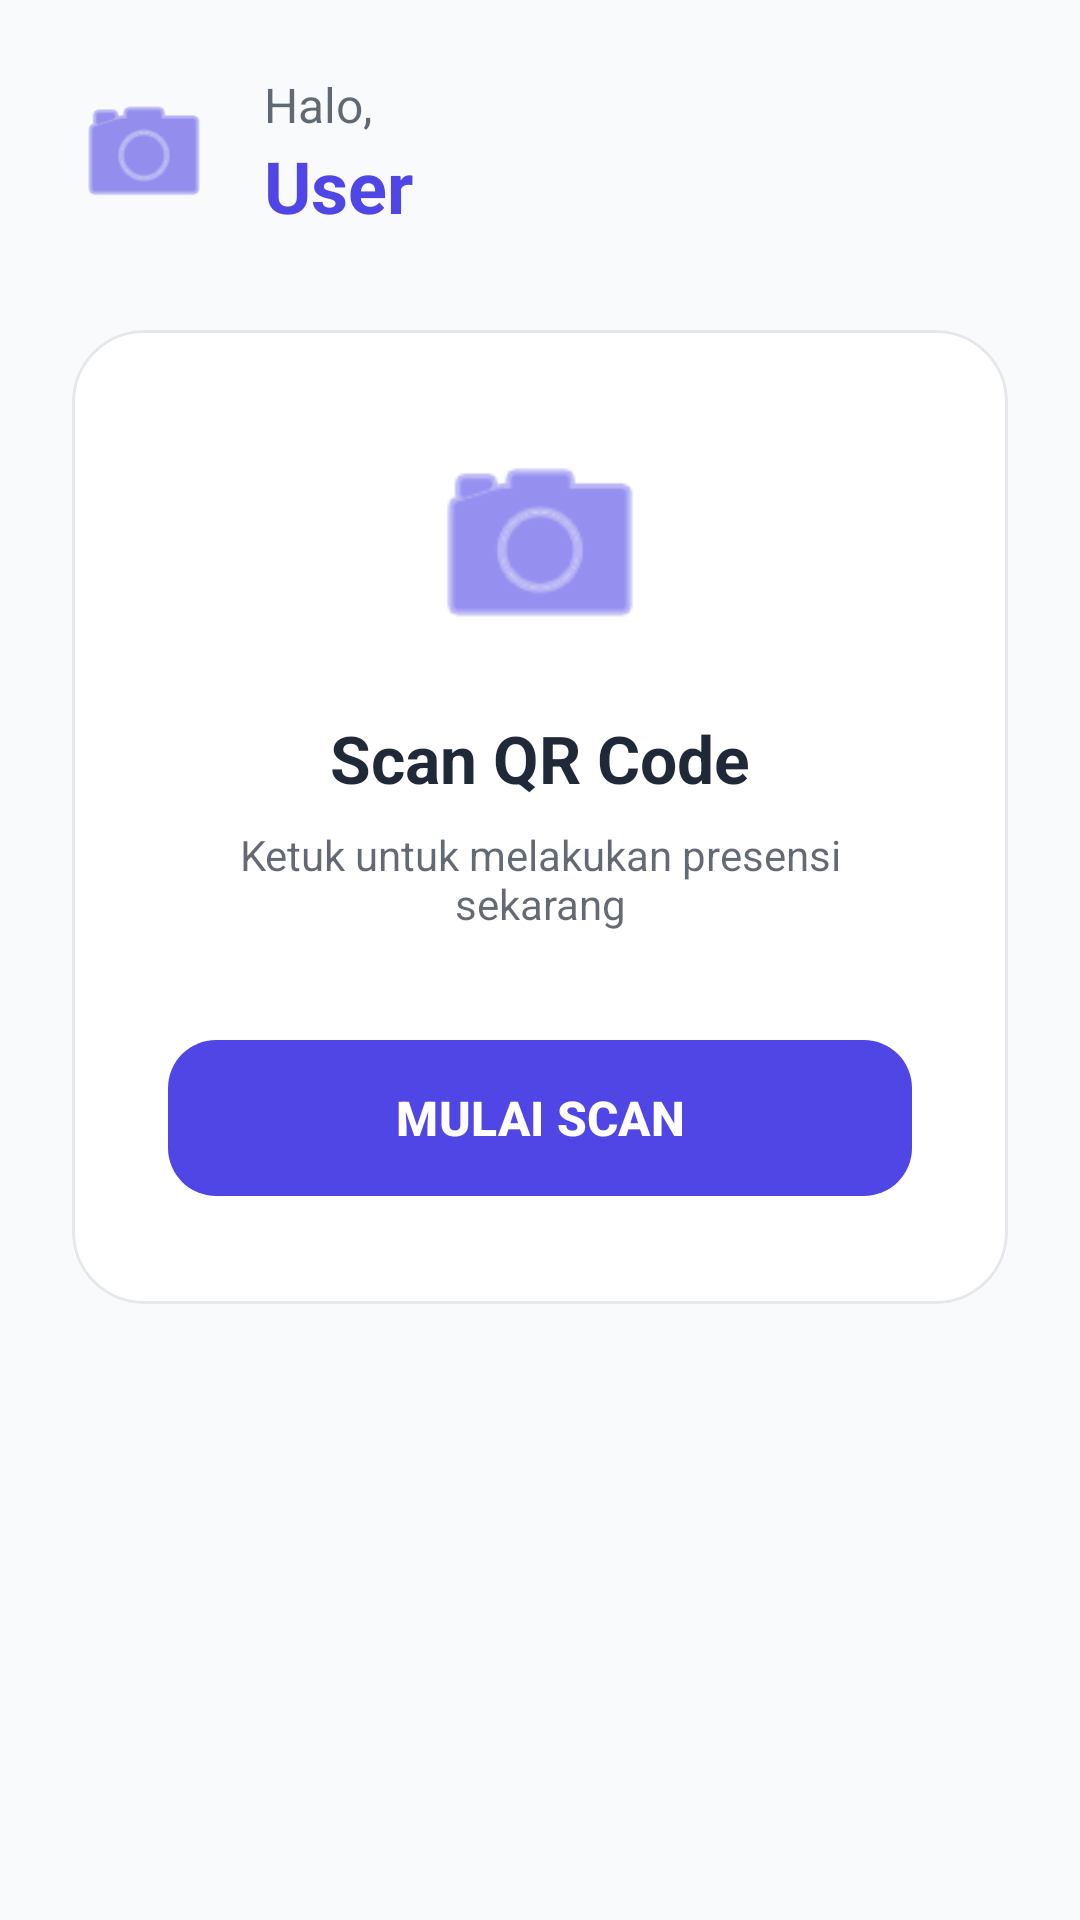

Icon bounding boxes for this 1080×1920 phone screenshot, format (x1, y1, x2, y2):
camera: (88, 107, 199, 195), (447, 469, 633, 616)
